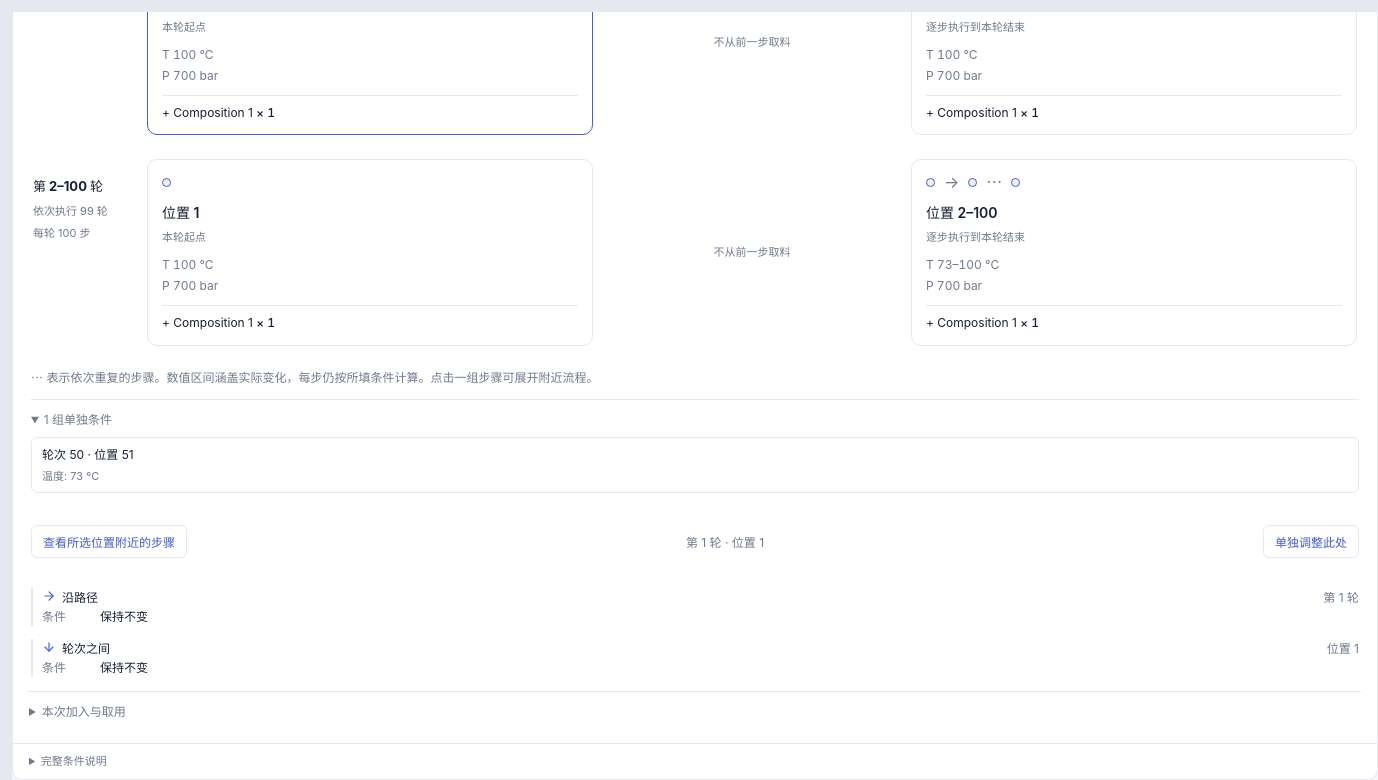
Scenario: exposes a middle-only override in the overview and jumps to its exact values
(page scrolled)
Click the button "轮次 50 · 位置 51 温度: 73 °C" at (88, 454), box [31,437,1359,493]
(page scrolled)
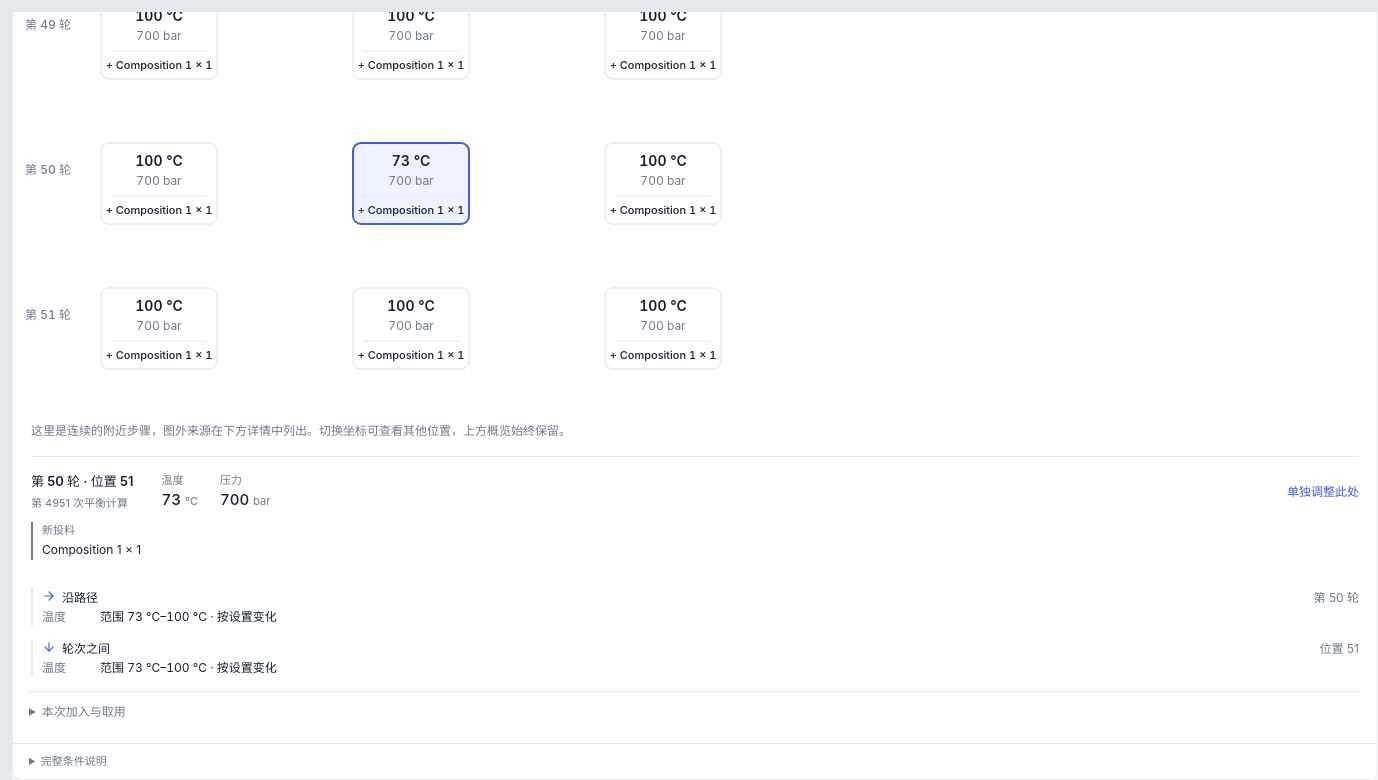
Check: the element with class "reaction-flow__current" shows "第 50 轮 · 位置 51", box [31,473,134,489]
Check: the element showing "73 °C" is shown, box [162,490,198,509]
